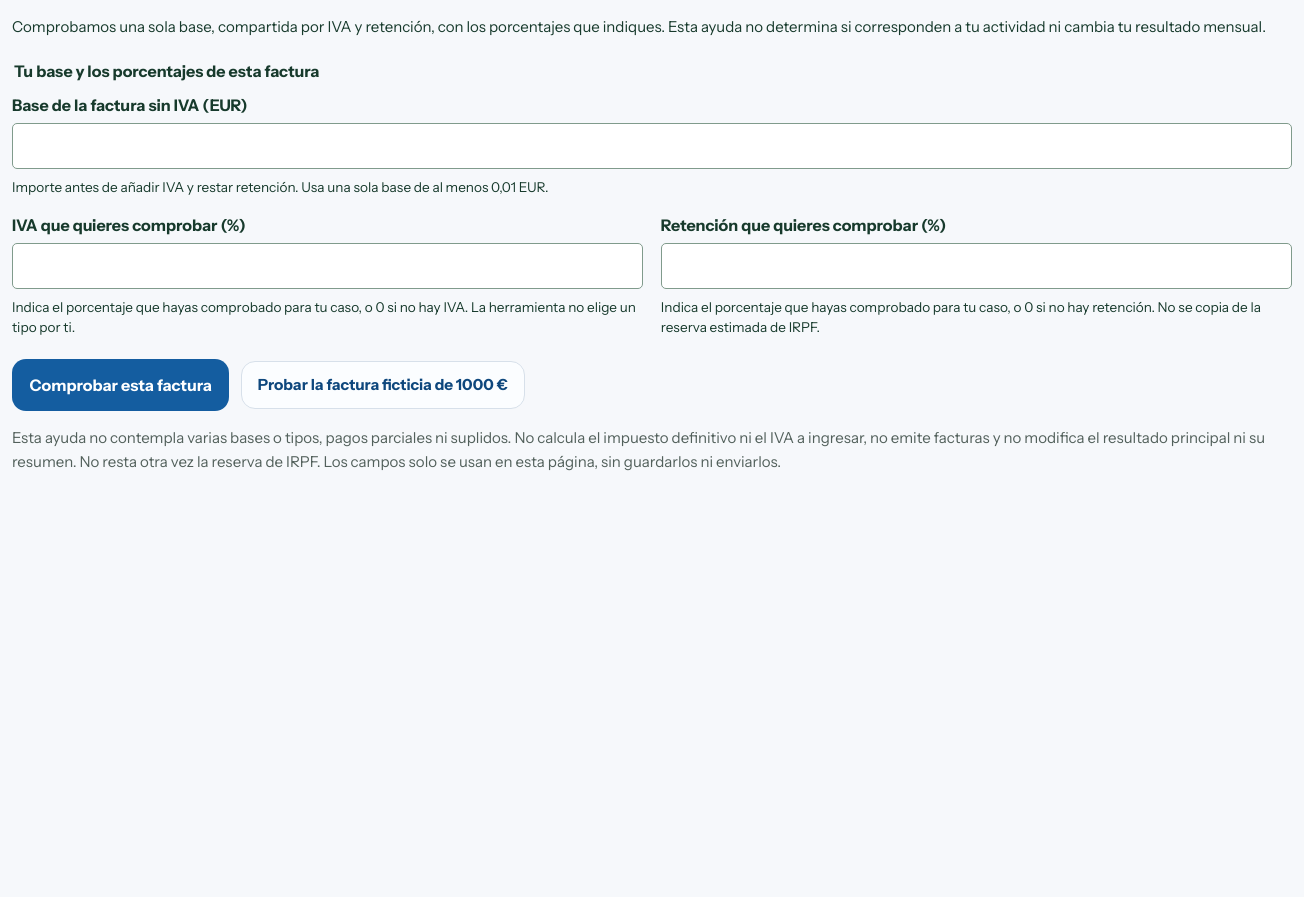
Scenario: editable single invoice check › identifies the fictional scenario, reconciles the receipt and withdraws stale output when the base changes
Click the button "Probar la factura ficticia de 1000 €" at (383, 385), box [241,360,525,409]
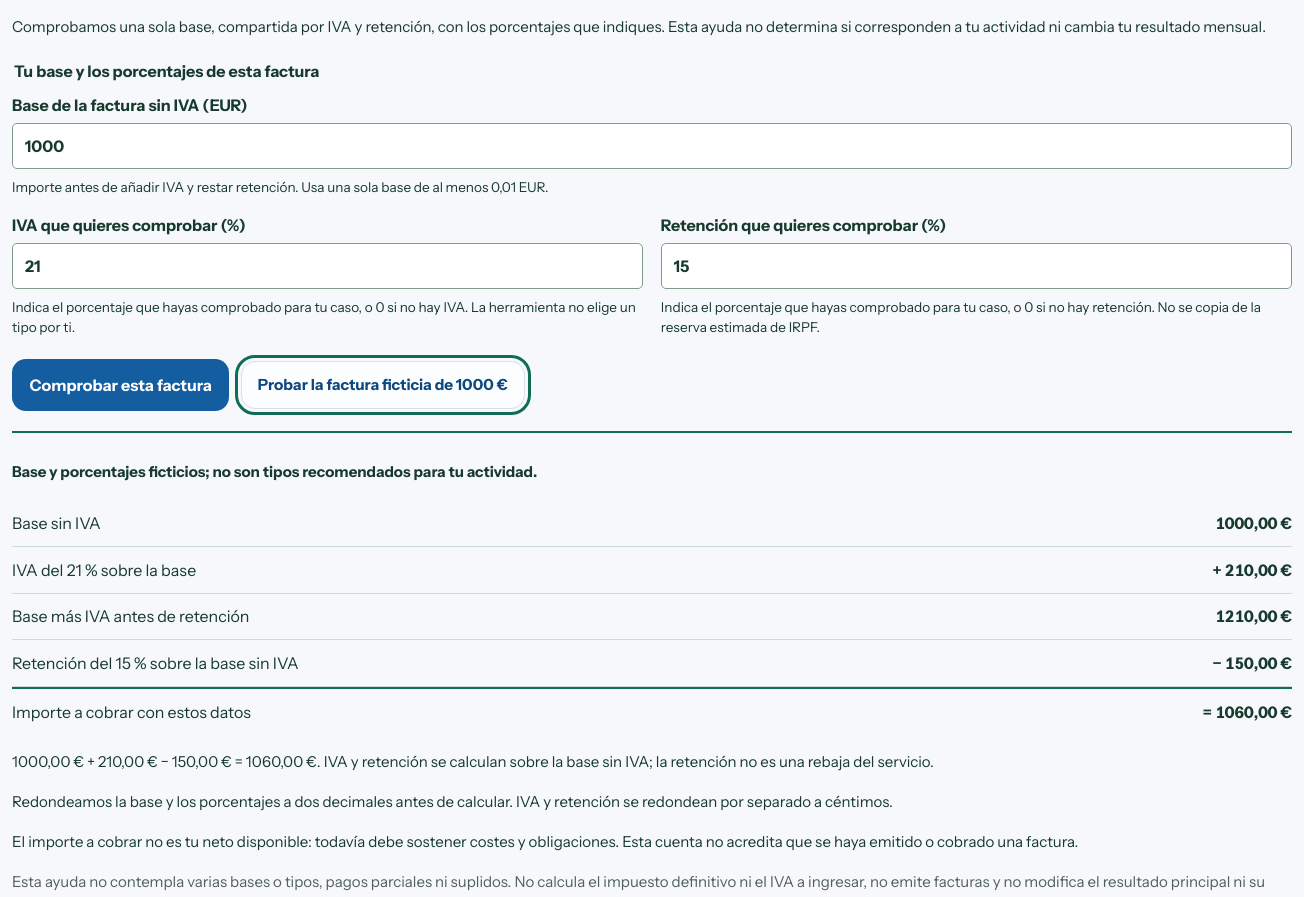
Expected: the message named "Comprobación de una factura" shows "Base y porcentajes ficticios", [12,462,537,481]
Expected: the message named "Comprobación de una factura" shows "1000,00 € + 210,00 € − 150,00 € = 1060,00 €", [12,431,1292,855]
Expected: the message named "Comprobación de una factura" shows "no es tu neto disponible", [12,832,1078,851]
Click the button "Comprobar esta factura" at (121, 385), box [12,359,230,411]
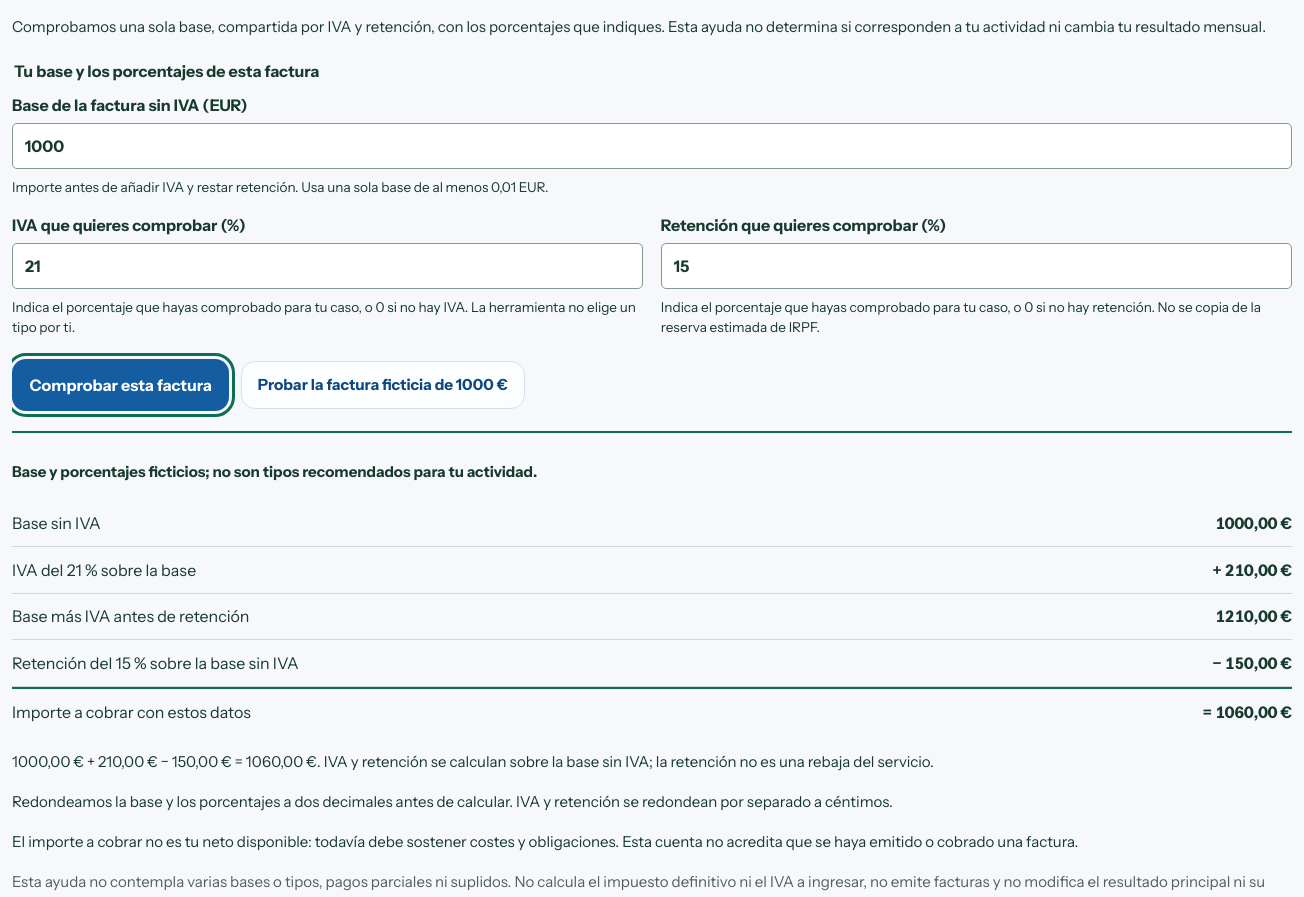
Expected: the message named "Comprobación de una factura" shows "Base y porcentajes ficticios", [12,462,537,481]
Replace the text in the field labelled "Base de la factura sin IVA (EUR)" with "2000" at (652, 146), box [12,123,1292,169]
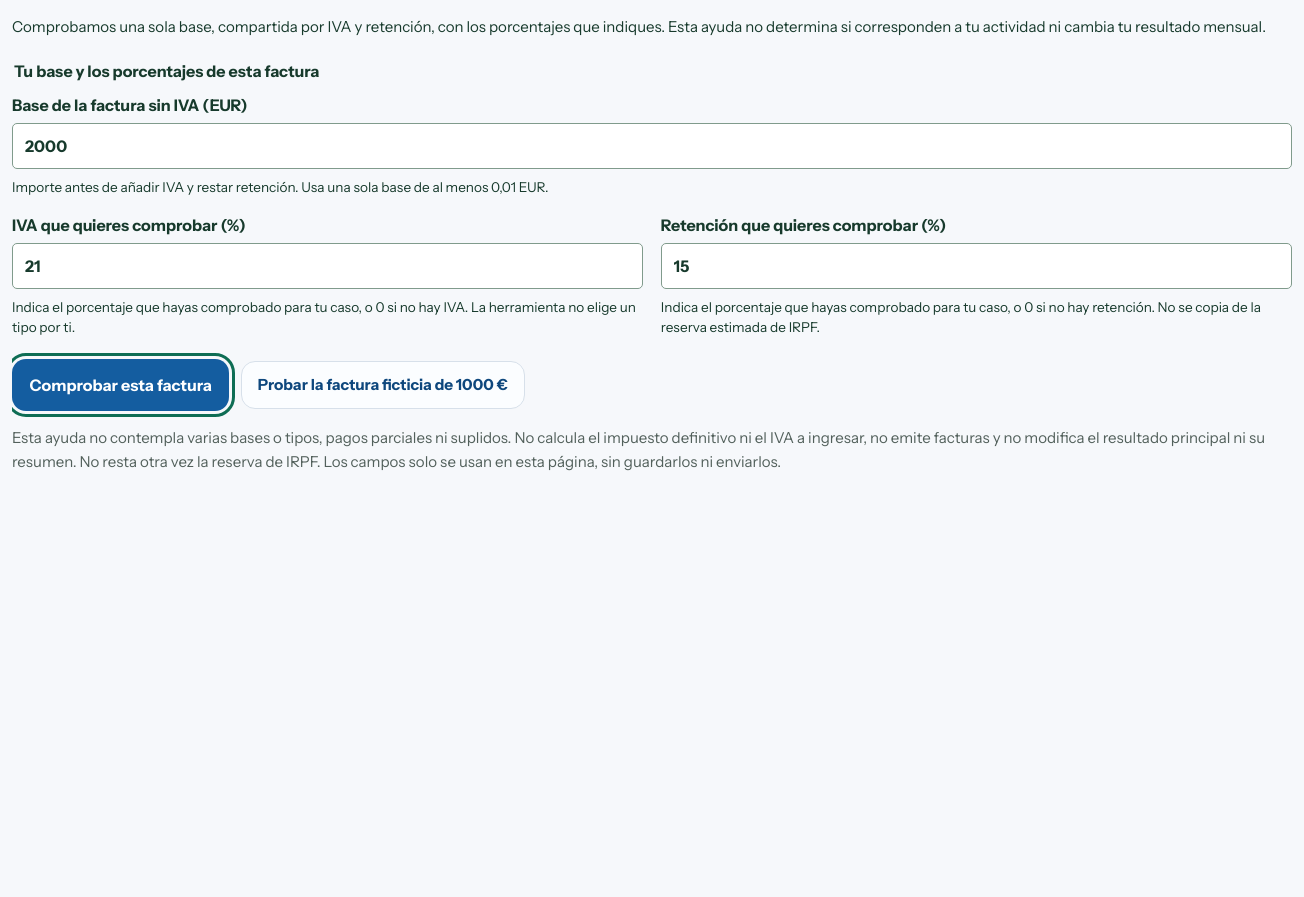
Press Enter in the field labelled "Base de la factura sin IVA (EUR)", box [12,123,1292,169]
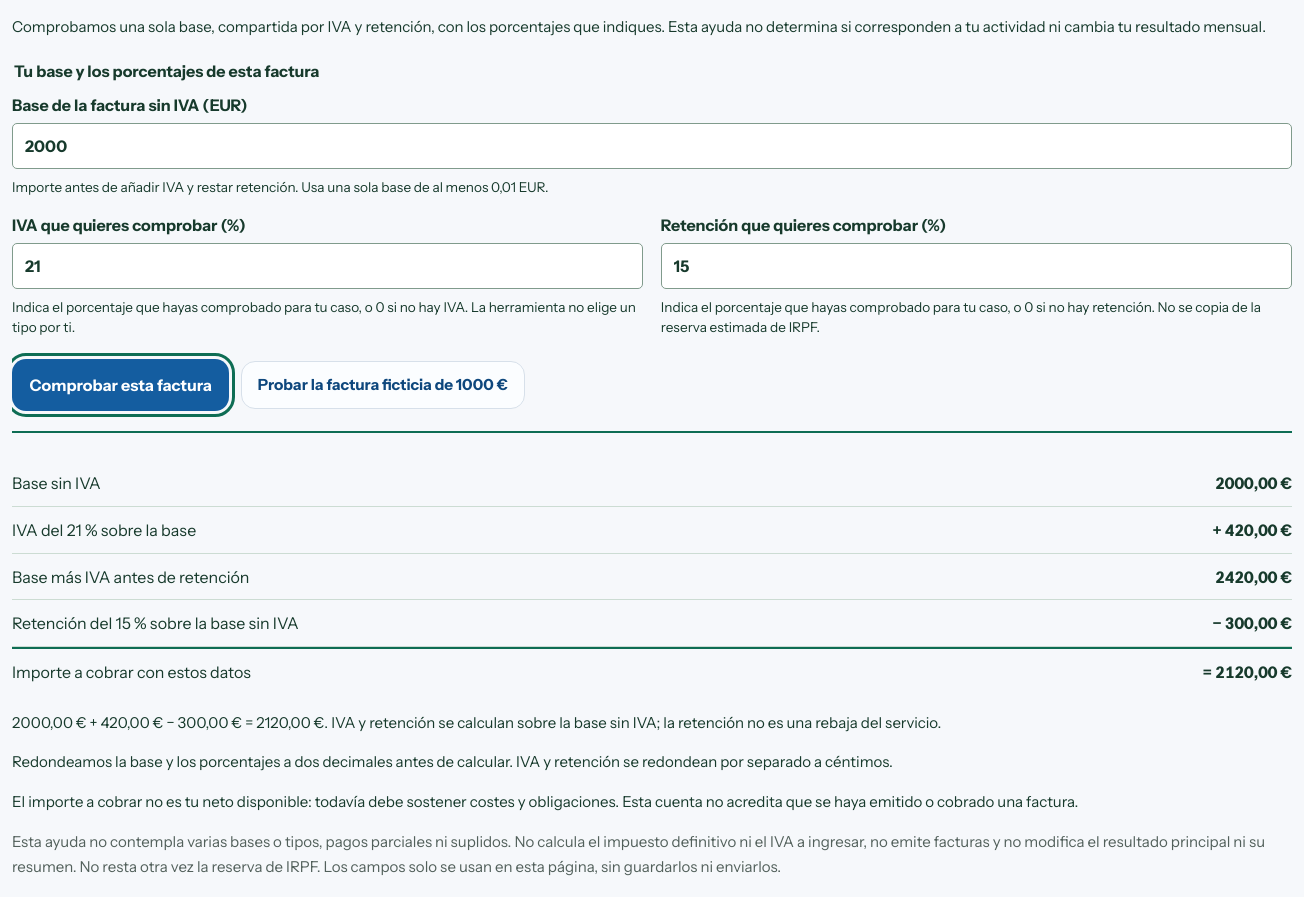
Expected: the message named "Comprobación de una factura" does not show "porcentajes ficticios", [12,431,1292,815]
Expected: the message named "Comprobación de una factura" shows "= 2120,00", [12,431,1292,815]
